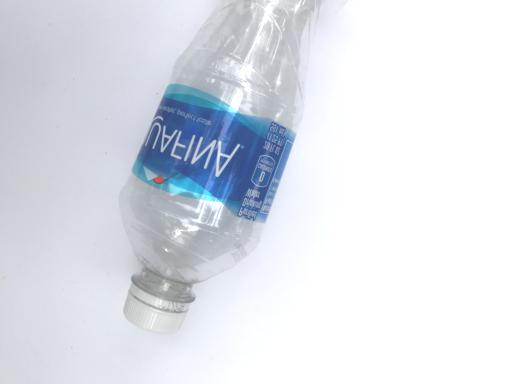bottle: (110, 0, 326, 339)
